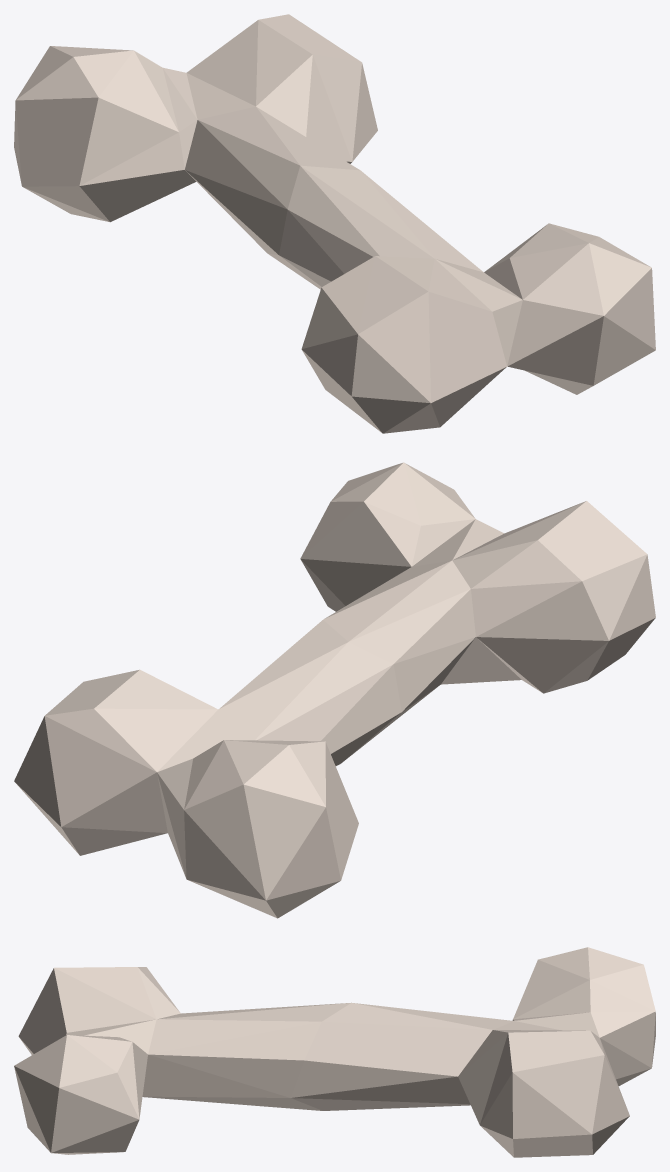
The model's file is kosti.fbx.
3 views of the same model, one above another, from view 1: azimuth 30°, elevation 25°; view 2: azimuth 150°, elevation 25°; view 3: azimuth 270°, elevation 25° (orthographic). The views are drawn at different scales.
Visible parts, largest first — view 1: kost; view 2: kost; view 3: kost.
Boxes of the visible parts, <box> form: kost: <box>14,14,655,433</box>; kost: <box>14,462,655,918</box>; kost: <box>14,947,655,1157</box>.
Size of the model in its own units: 33.25 by 16.55 by 70.93.
